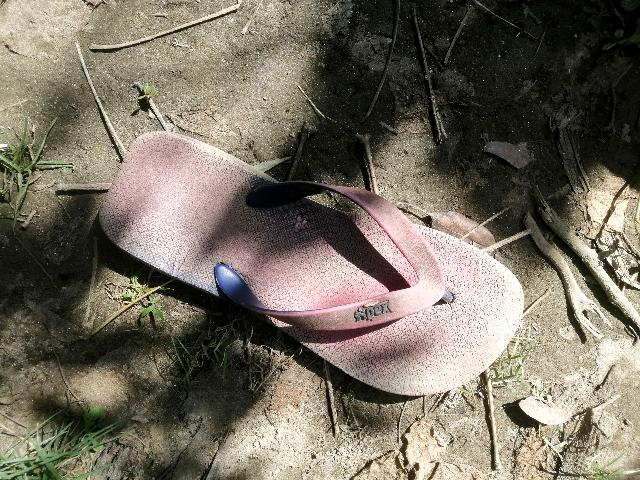sandal: (38, 92, 554, 435)
